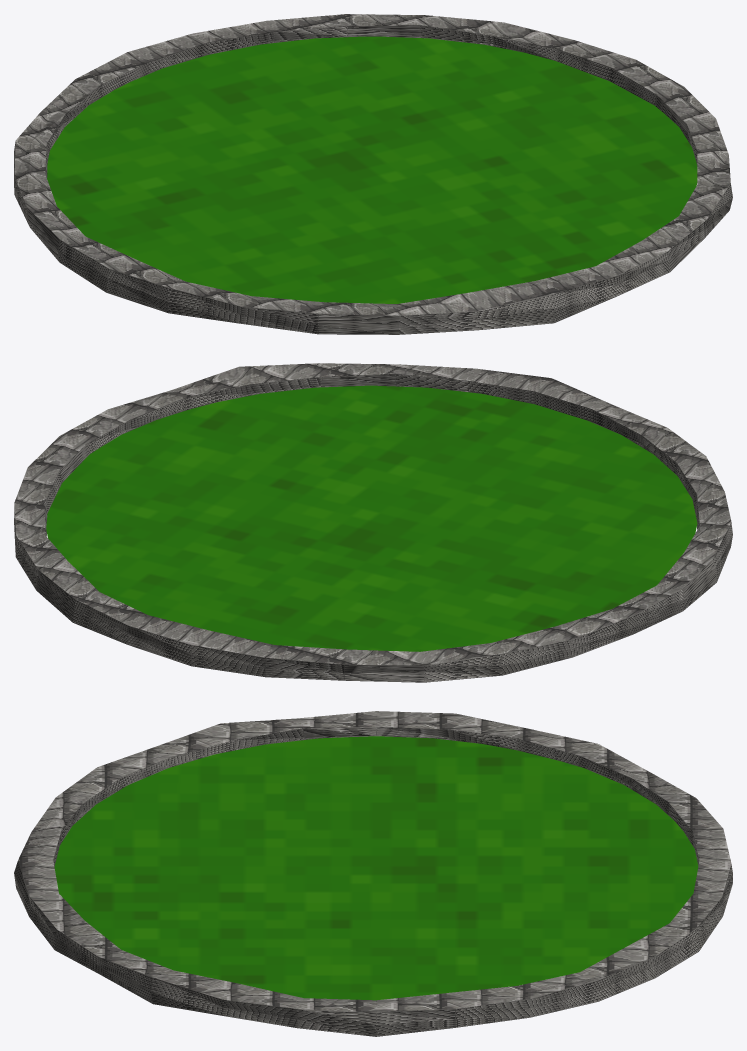
The model's file is Platform.fbx.
The picture shows the model from 3 angles, top to bottom: view 1: azimuth 30°, elevation 25°; view 2: azimuth 150°, elevation 25°; view 3: azimuth 270°, elevation 25°; orthographic projection.
Visible parts, largest first — view 1: Grass, Stone_Ring; view 2: Grass, Stone_Ring; view 3: Grass, Stone_Ring.
Boxes of the visible parts, <box> form: Grass: <box>47,36,697,303</box>; Stone_Ring: <box>14,14,732,334</box>; Grass: <box>46,385,697,651</box>; Stone_Ring: <box>14,363,732,682</box>; Grass: <box>54,736,698,1000</box>; Stone_Ring: <box>14,711,732,1036</box>.
Bounding box in the file's own units: 222 × 10.54 × 222.
Materials: 2 (2 with a texture image).
